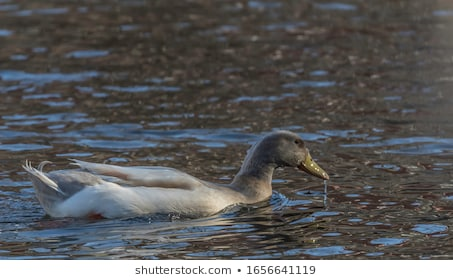duck: (6, 121, 339, 240)
